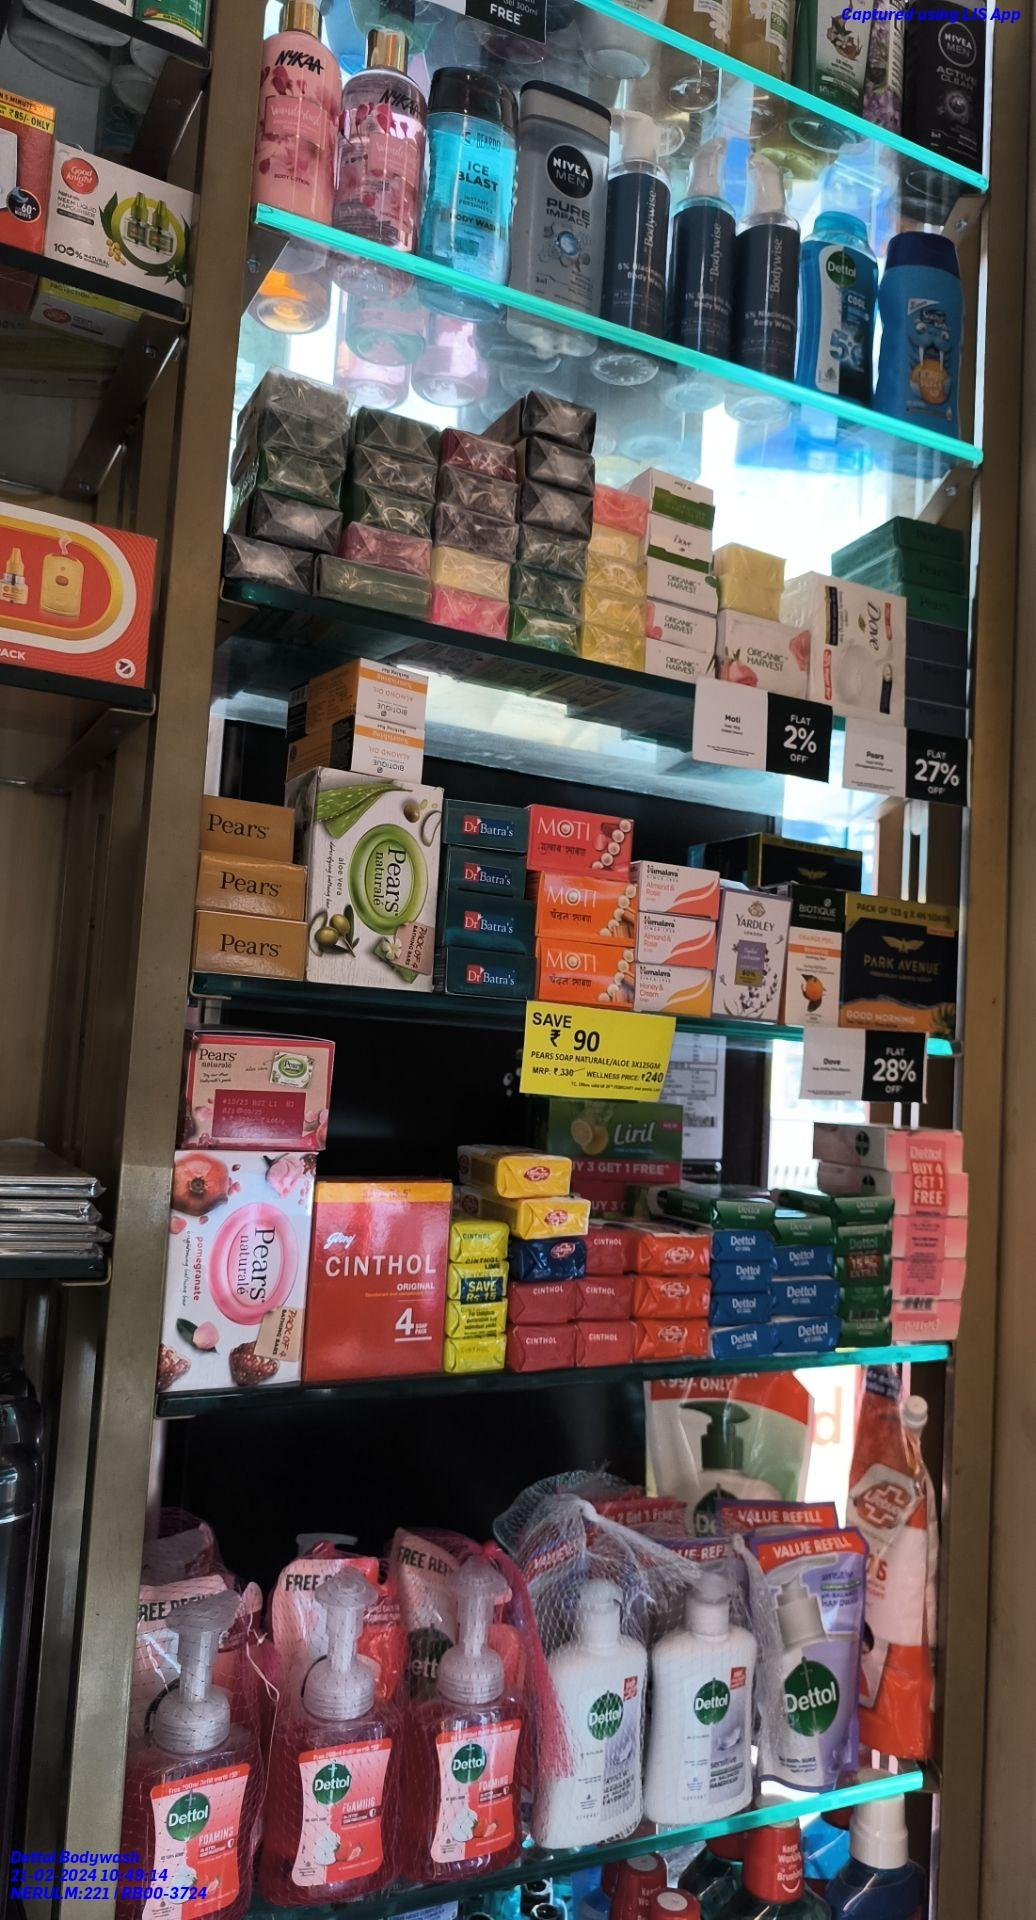Dettol_Bodywash_Cool: (803, 207, 882, 402)
